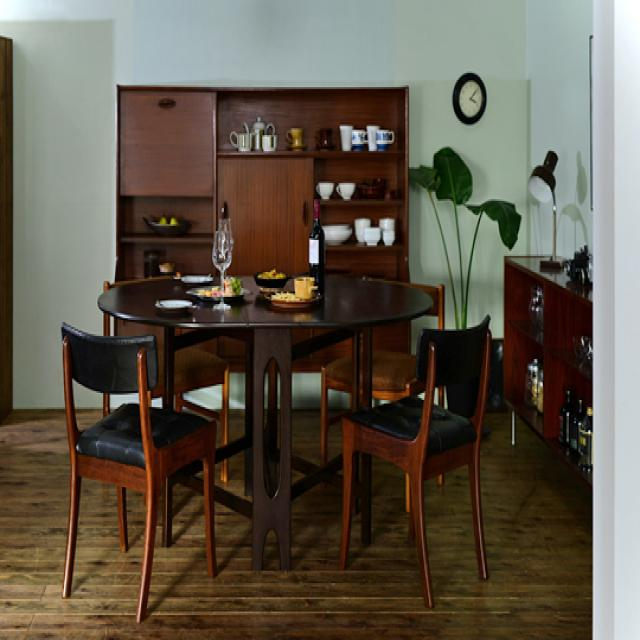vintage chair: (54, 305, 221, 631), (332, 311, 512, 611)
